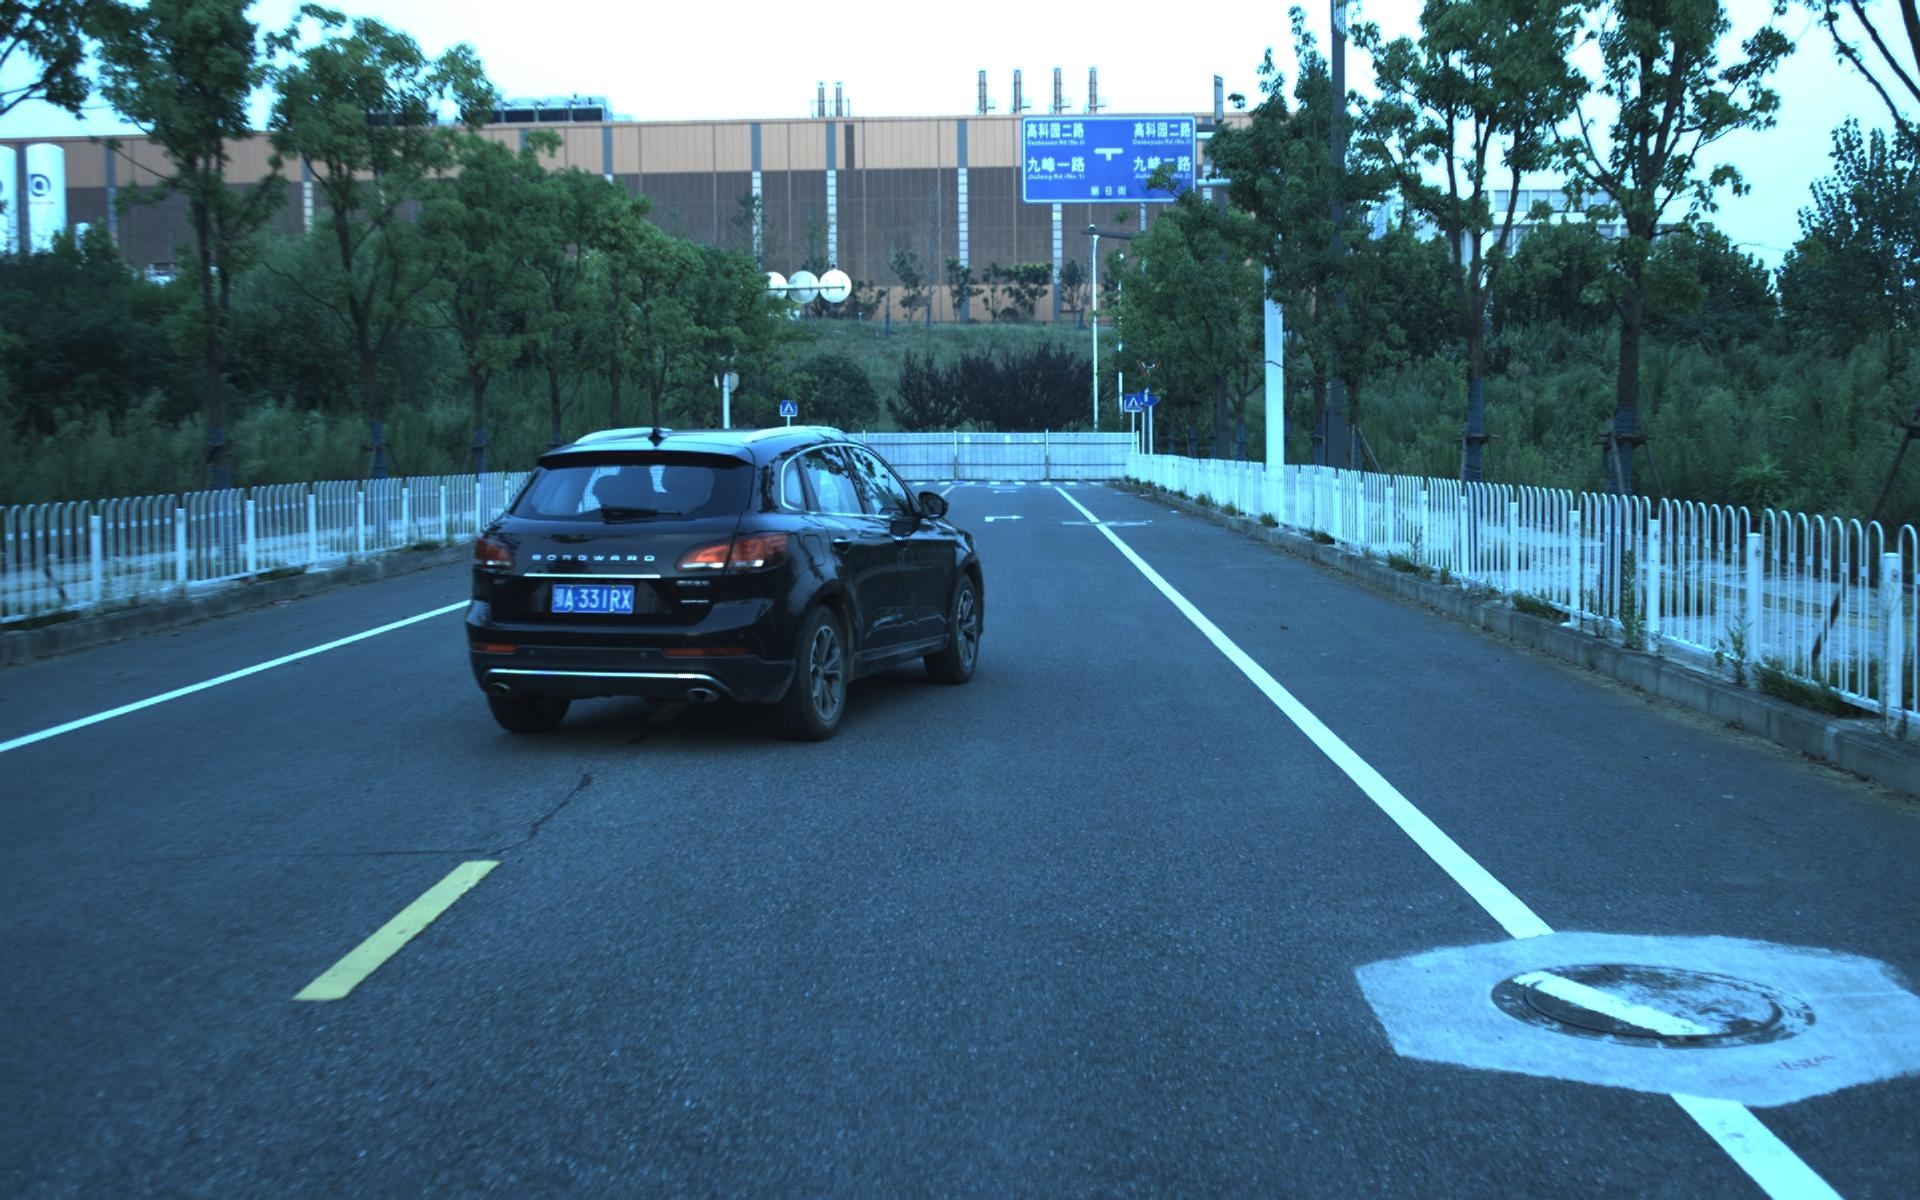Car: (441, 409, 991, 758)
